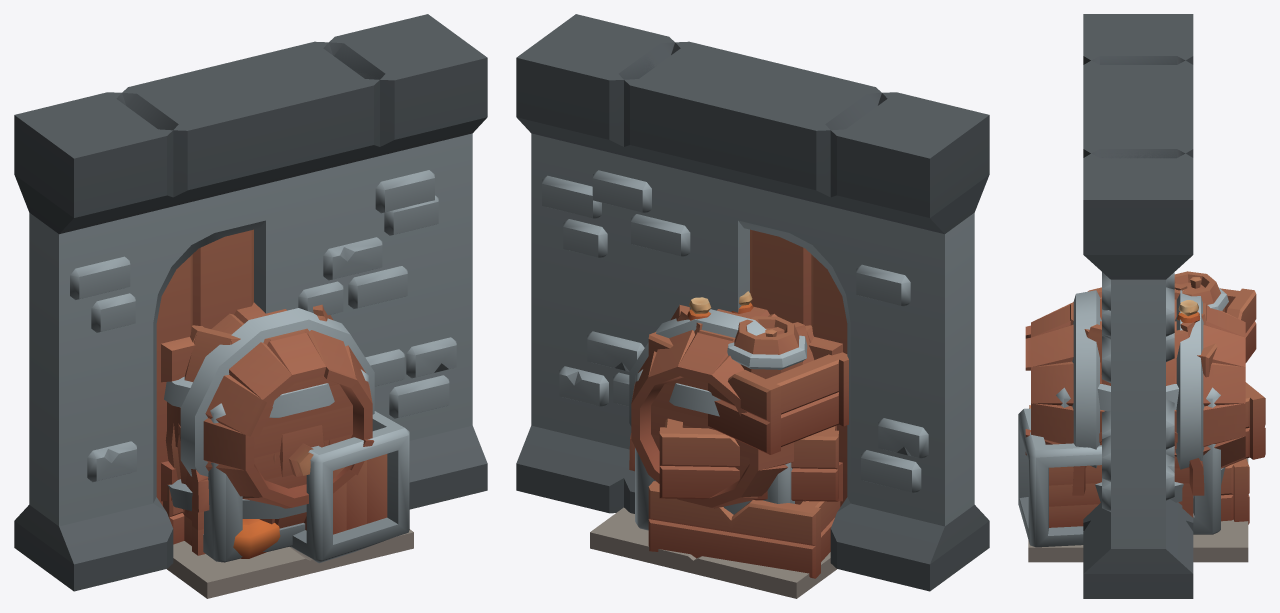
Rendered from dungeon.glb.
3 renders of one model, left to right at view 1: azimuth 30°, elevation 25°; view 2: azimuth 150°, elevation 25°; view 3: azimuth 270°, elevation 25°, orthographic. The views are drawn at different scales.
Parts seen in each view (by area): view 1: wall_doorway, wall_half, keg, crates_stacked, wall_doorway_door, barrel_large, floor_tile_small, box_large, chest, chest_lid; view 2: wall_doorway, wall_half, crates_stacked, keg, wall_doorway_door, floor_tile_small, barrel_large, box_large; view 3: wall_doorway, wall_half, keg, crates_stacked, floor_tile_small, box_large, barrel_large, chest_lid, chest.
Boxes of the visible parts, x1=… form: wall_doorway: x1=14, y1=14, x2=487, y2=591; wall_half: x1=222, y1=14, x2=487, y2=412; keg: x1=167, y1=302, x2=374, y2=545; crates_stacked: x1=163, y1=411, x2=409, y2=563; wall_doorway_door: x1=156, y1=229, x2=253, y2=505; barrel_large: x1=164, y1=304, x2=334, y2=528; floor_tile_small: x1=167, y1=529, x2=413, y2=598; box_large: x1=203, y1=369, x2=368, y2=562; chest: x1=184, y1=492, x2=205, y2=555; chest_lid: x1=178, y1=423, x2=209, y2=512; wall_doorway: x1=542, y1=14, x2=989, y2=591; wall_half: x1=516, y1=14, x2=777, y2=513; crates_stacked: x1=648, y1=291, x2=848, y2=578; keg: x1=629, y1=306, x2=836, y2=508; wall_doorway_door: x1=750, y1=229, x2=847, y2=506; floor_tile_small: x1=590, y1=507, x2=836, y2=598; barrel_large: x1=669, y1=305, x2=836, y2=514; box_large: x1=635, y1=369, x2=794, y2=530; wall_doorway: x1=1083, y1=14, x2=1193, y2=598; wall_half: x1=1083, y1=107, x2=1193, y2=598; keg: x1=1025, y1=290, x2=1245, y2=469; crates_stacked: x1=1018, y1=271, x2=1265, y2=547; floor_tile_small: x1=1028, y1=458, x2=1248, y2=562; box_large: x1=1056, y1=387, x2=1220, y2=534; barrel_large: x1=1070, y1=283, x2=1225, y2=502; chest_lid: x1=1072, y1=432, x2=1204, y2=495; chest: x1=1178, y1=483, x2=1193, y2=517.
Bounding box in the file's own units: 4 × 4.1 × 2.25.
Materials: 1 (1 with a texture image).
